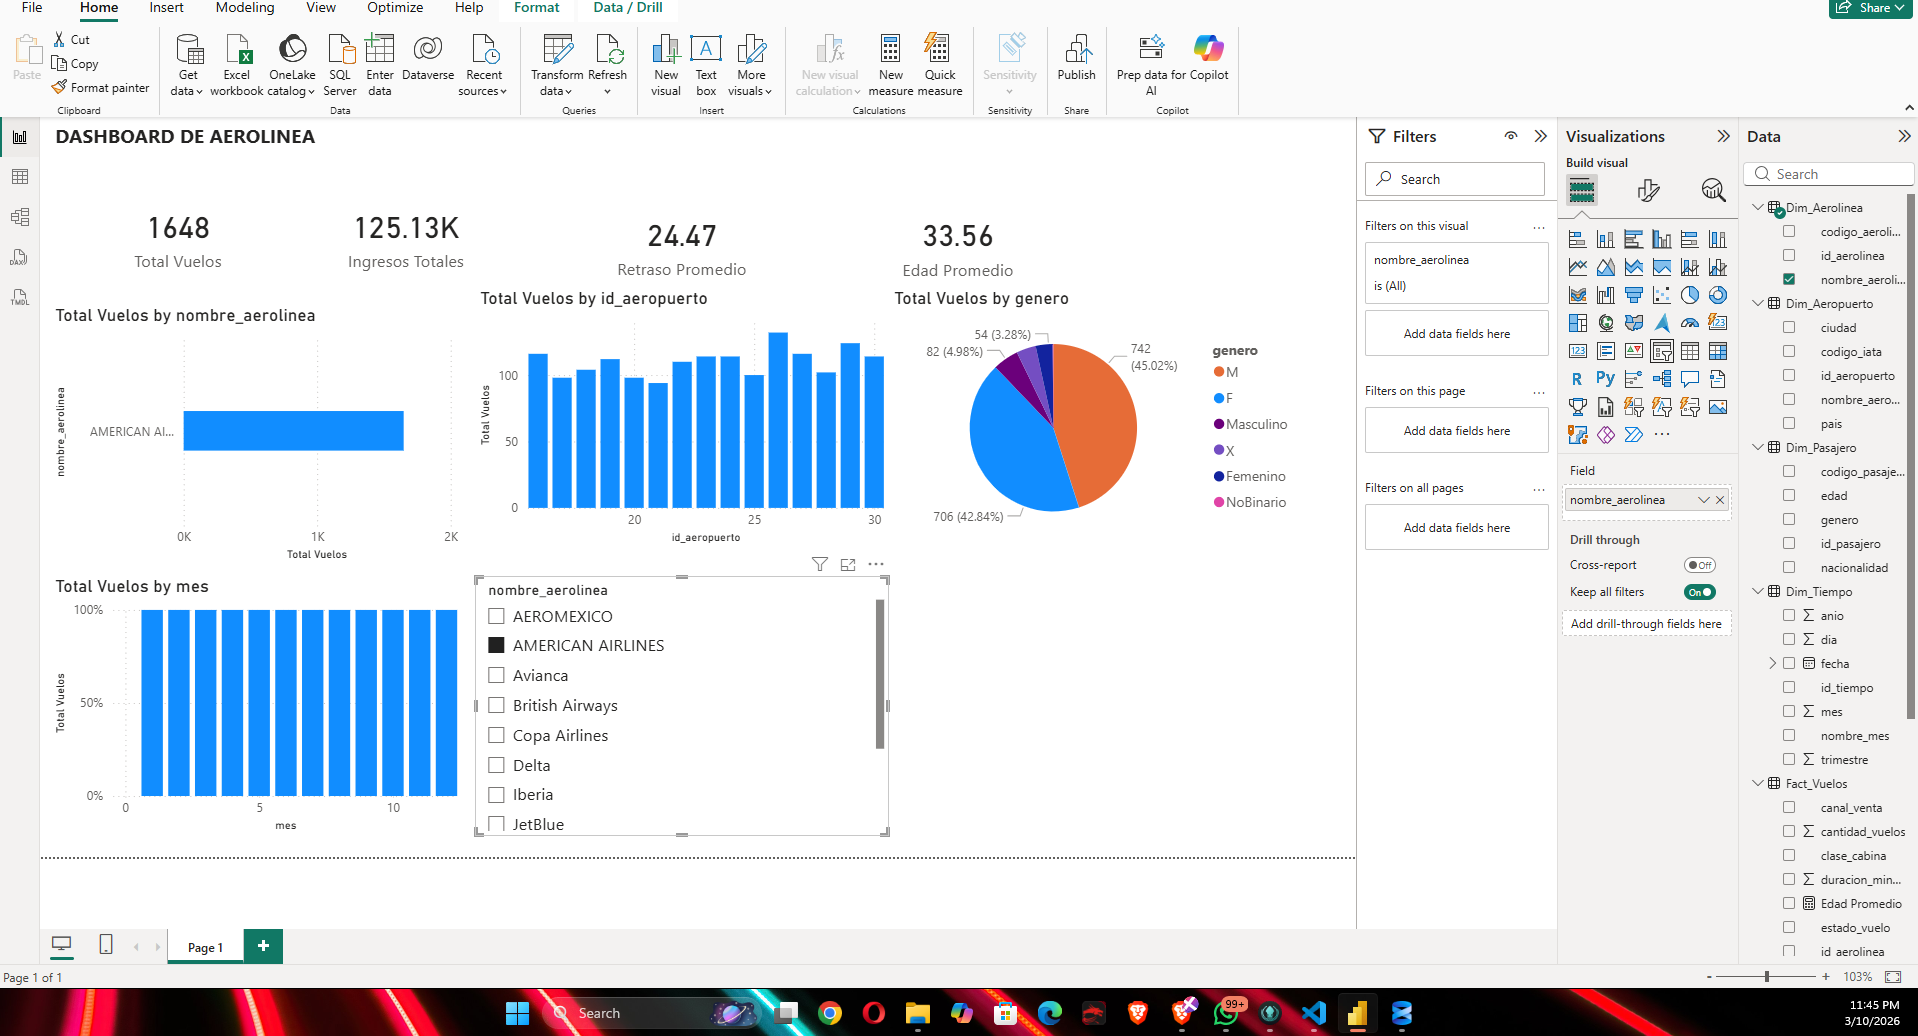

The page's visual inventory and layout, read from the dashboard file:
{"tool":"powerbi","page":{"name":"Page 1","canvas":[1280,720],"ordinal":0},"visuals":[{"type":"textbox","box":[0,0,1280,76.3],"z":0},{"type":"card","fields":{"Values":["Dim_Aerolinea.Retraso Promedio"]},"box":[0,76.3,156.7,149.4],"z":1000},{"type":"card","fields":{"Values":["Dim_Aerolinea.Estado Retraso"]},"box":[156.7,76.3,156.7,149.4],"z":1001},{"type":"card","fields":{"Values":["Dim_Aerolinea.Edad Promedio"]},"box":[0,225.7,156.7,108.7],"z":1002},{"type":"card","fields":{"Values":["Dim_Aerolinea.Total Maletas"]},"box":[0,334.4,156.7,149.4],"z":1003},{"type":"card","fields":{"Values":["Dim_Aerolinea.Total Vuelos"]},"box":[156.7,334.4,156.7,149.4],"z":1004},{"type":"card","fields":{"Values":["Dim_Aerolinea.Ingresos Totales"]},"box":[157.8,225.7,155.7,108.7],"z":1005},{"type":"barChart","fields":{"Category":["Dim_Aerolinea.nombre_aerolinea"],"Y":["Dim_Aerolinea.Total Vuelos"]},"box":[314.5,76.3,503.6,404.4],"z":1006},{"type":"donutChart","fields":{"Category":["Dim_Pasajero.genero"],"Y":["Dim_Aerolinea.Total Vuelos"]},"box":[0,480.7,403.3,239.3],"z":1007},{"type":"hundredPercentStackedColumnChart","fields":{"Y":["Dim_Aerolinea.Total Vuelos"],"Category":["Dim_Tiempo.nombre_mes"]},"box":[818.2,74.2,461.8,406.5],"z":1008},{"type":"slicer","fields":{"Values":["Dim_Aerolinea.nombre_aerolinea"]},"box":[403.3,480.7,414.8,239.3],"z":1009},{"type":"slicer","fields":{"Values":["Dim_Pasajero.genero"]},"box":[818.2,480.7,461.8,239.3],"z":1010}]}

Visuals, with their boxes on the page's 1280x720 design canvas (x1, y1, x2, y2). These are canvas units, not pixel positions in the 1918x1036 screenshot, which may show the page scaled, cropped or inside an application window:
textbox: Rect(0, 0, 1280, 76)
card - Dim_Aerolinea.Retraso Promedio: Rect(0, 76, 157, 226)
card - Dim_Aerolinea.Estado Retraso: Rect(157, 76, 313, 226)
card - Dim_Aerolinea.Edad Promedio: Rect(0, 226, 157, 334)
card - Dim_Aerolinea.Total Maletas: Rect(0, 334, 157, 484)
card - Dim_Aerolinea.Total Vuelos: Rect(157, 334, 313, 484)
card - Dim_Aerolinea.Ingresos Totales: Rect(158, 226, 314, 334)
barChart - Dim_Aerolinea.nombre_aerolinea x Dim_Aerolinea.Total Vuelos: Rect(314, 76, 818, 481)
donutChart - Dim_Pasajero.genero x Dim_Aerolinea.Total Vuelos: Rect(0, 481, 403, 720)
hundredPercentStackedColumnChart - Dim_Aerolinea.Total Vuelos x Dim_Tiempo.nombre_mes: Rect(818, 74, 1280, 481)
slicer - Dim_Aerolinea.nombre_aerolinea: Rect(403, 481, 818, 720)
slicer - Dim_Pasajero.genero: Rect(818, 481, 1280, 720)
